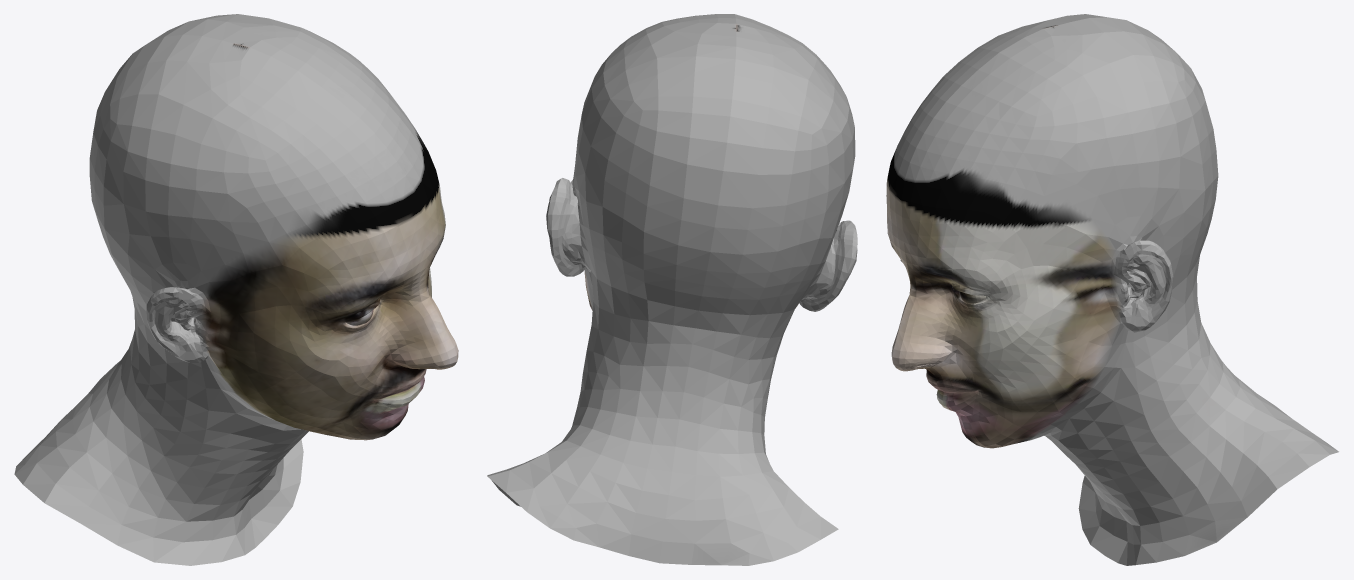
Rendered from ezgif-frame-058.obj.
3 views of the same model, side by side, from view 1: azimuth 30°, elevation 25°; view 2: azimuth 150°, elevation 25°; view 3: azimuth 270°, elevation 25° (orthographic). The views are drawn at different scales.
Size of the model in its own units: 0.2005 by 0.3223 by 0.2592.
Materials: 1 (1 with a texture image).
